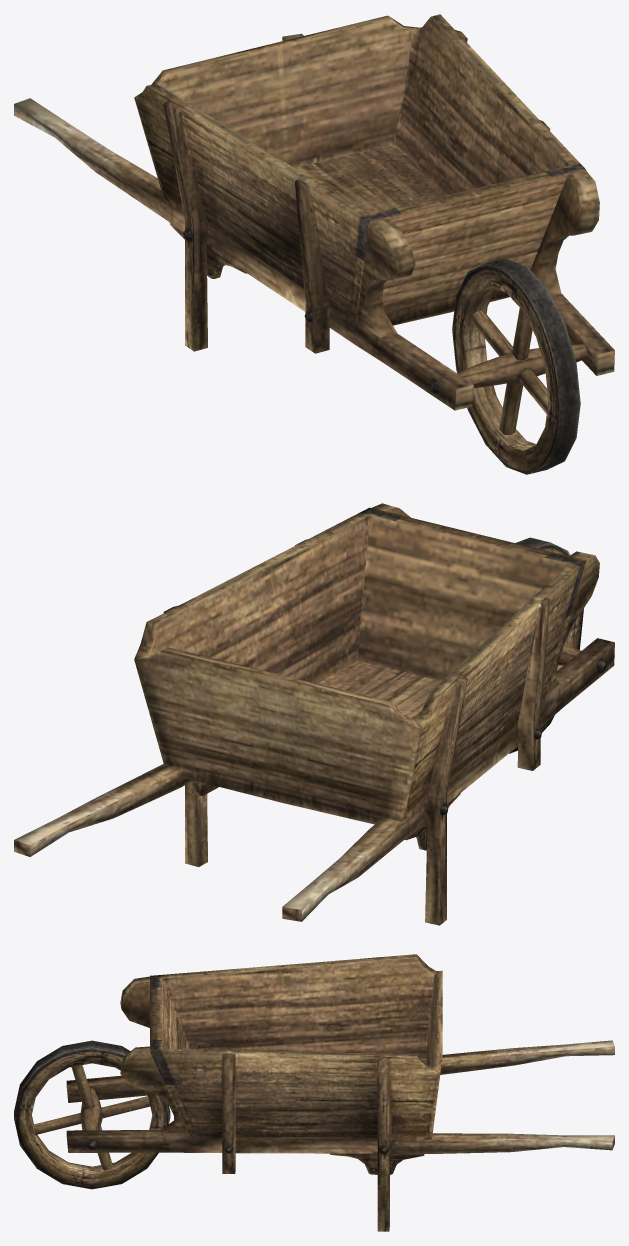
3 views of the same model, one above another, from view 1: azimuth 30°, elevation 25°; view 2: azimuth 150°, elevation 25°; view 3: azimuth 270°, elevation 25° (orthographic). The views are drawn at different scales.
Parts seen in each view (by area): view 1: LV_Common_Object_A_Wagon01_SM_KJM; view 2: LV_Common_Object_A_Wagon01_SM_KJM; view 3: LV_Common_Object_A_Wagon01_SM_KJM.
Boxes of the visible parts, <box> form: LV_Common_Object_A_Wagon01_SM_KJM: <box>14,14,614,474</box>; LV_Common_Object_A_Wagon01_SM_KJM: <box>14,503,614,925</box>; LV_Common_Object_A_Wagon01_SM_KJM: <box>14,954,614,1231</box>.
Bounding box in the file's own units: 0.1643 × 0.1323 × 0.3974.
Materials: 1 (1 with a texture image).
